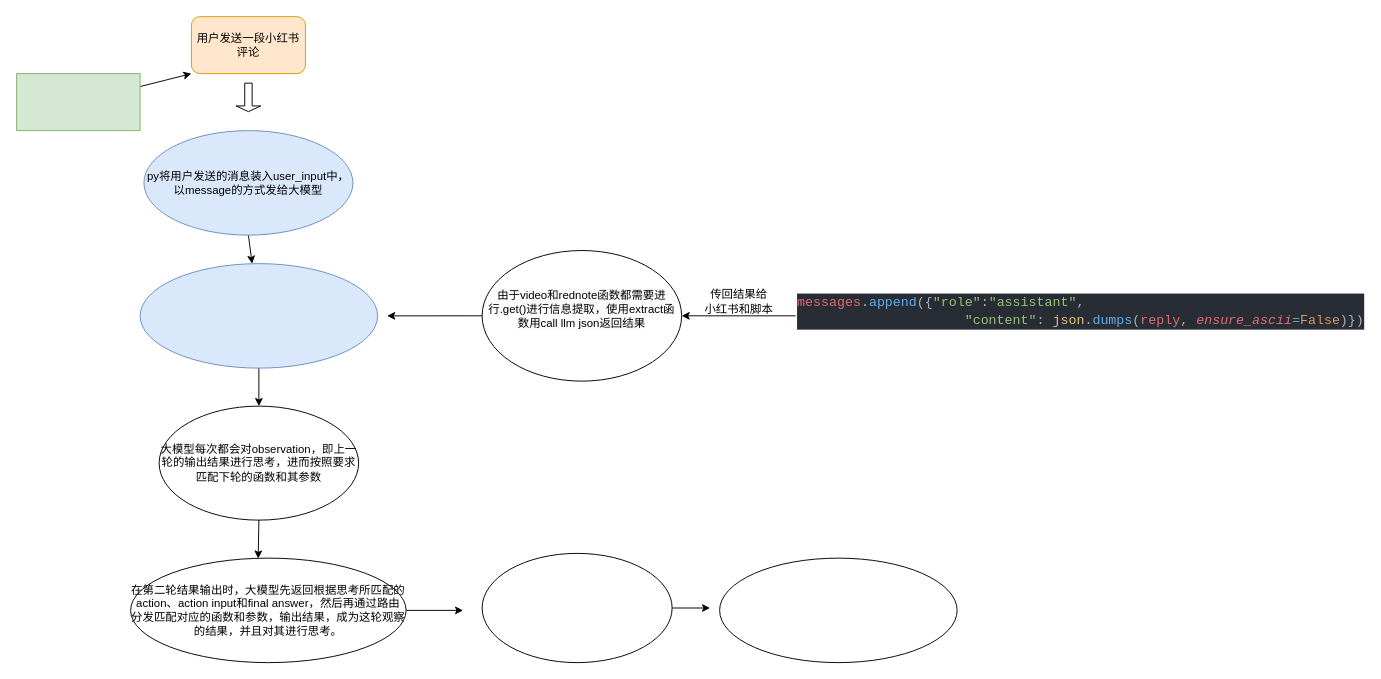
Image size: 1381x679. Some labels were removed from this diagram. The box of each missing label's shape, as (x1, y1, x2, y2) in pixels:
role为system的message将system prompt发给llm，使其能更好识别用户内容。: (16, 73, 140, 131)
在大模型传回相关参数后，parse函数对函数的参数进行进一步的具体划分: (481, 552, 672, 663)
根据system-prompt的指示，llm首先会对大段文字进行卖点提取，再将提取的结果分发给rednote和video: (139, 263, 378, 368)
